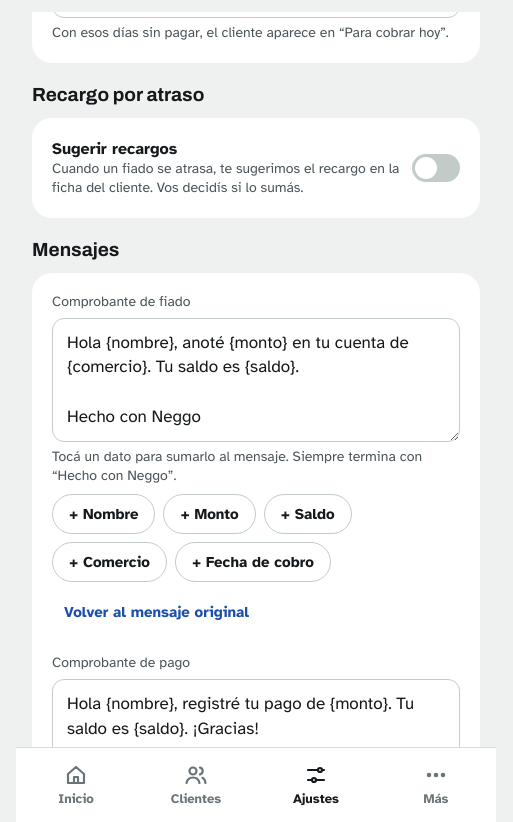
it: Ajustes › las pastillas suman el dato al mensaje sin escribir llaves
The width and height of the screenshot is (513, 822).
(page scrolled)
Replace the text in the text box labelled "Comprobante de fiado" with "Hola" at [256, 380], box [52,318,460,442]
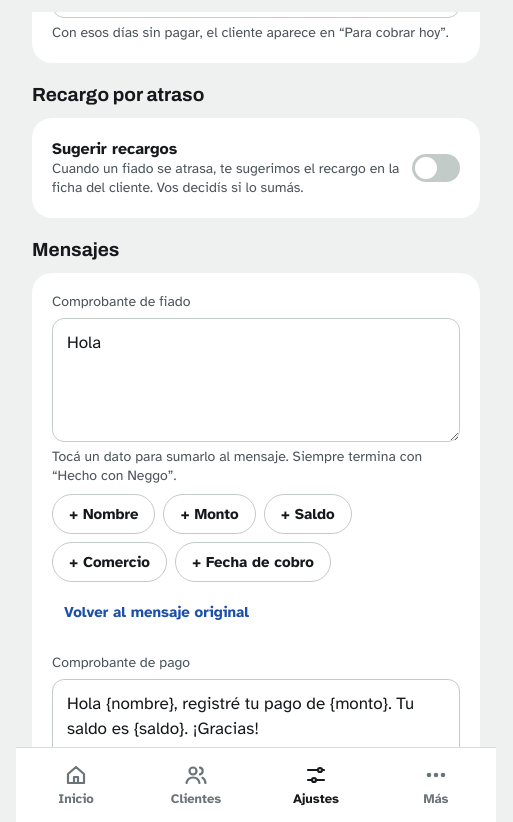
Expected: the button "+ Alias" is not shown
Click the button "+ Nombre" at [104, 514], box [52,494,156,534]
(page scrolled)
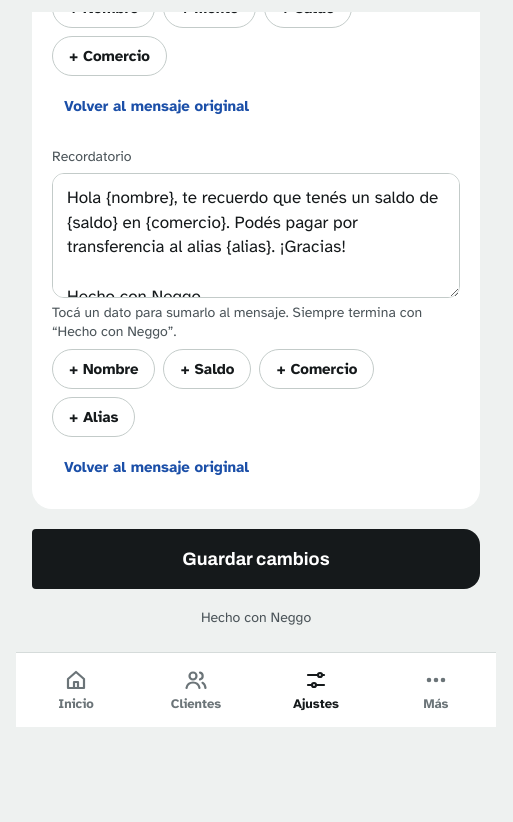
Expected: the button "+ Alias" is shown, [52,398,136,438]
